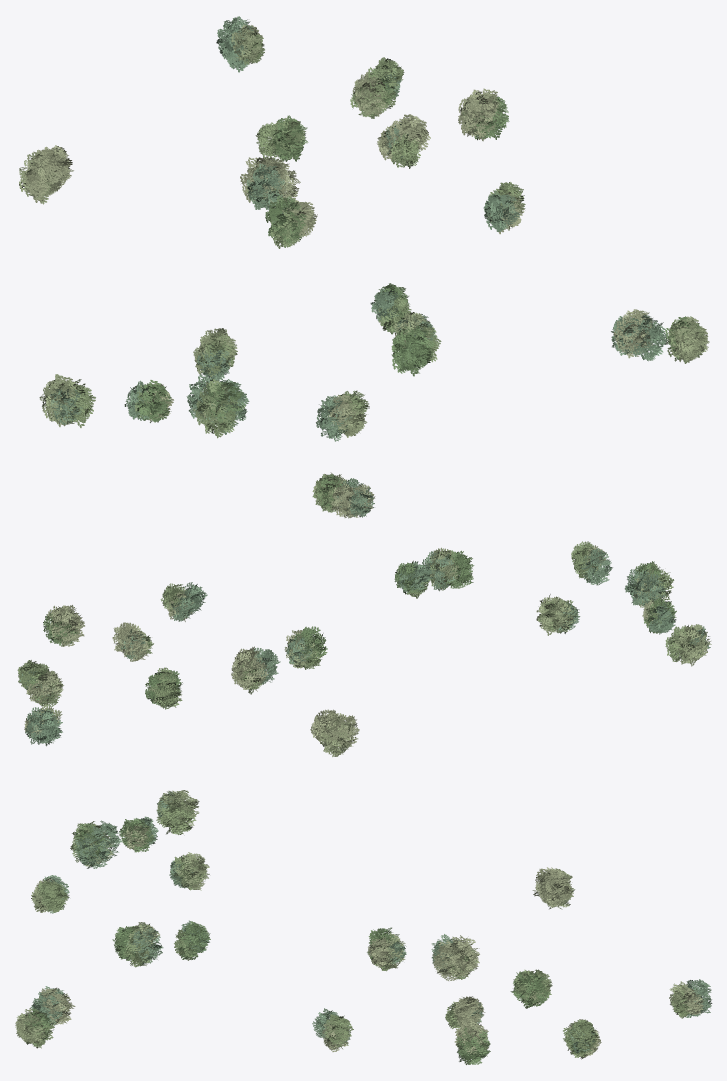
Rendered from campus-tree-5_-3-near.glb.
3 views of the same model, one above another, from view 1: azimuth 30°, elevation 25°; view 2: azimuth 150°, elevation 25°; view 3: azimuth 270°, elevation 25° (orthographic). The views are drawn at different scales.
Parts seen in each view (by area): view 1: Campus leaf canopy; view 2: Campus leaf canopy; view 3: Campus leaf canopy.
Boxes of the visible parts, <box> form: Campus leaf canopy: <box>19,16,709,441</box>; Campus leaf canopy: <box>17,472,711,756</box>; Campus leaf canopy: <box>15,790,712,1064</box>.
Size of the model in its own units: 70.83 by 7.39 by 81.08.
Materials: 1 (1 with a texture image).
